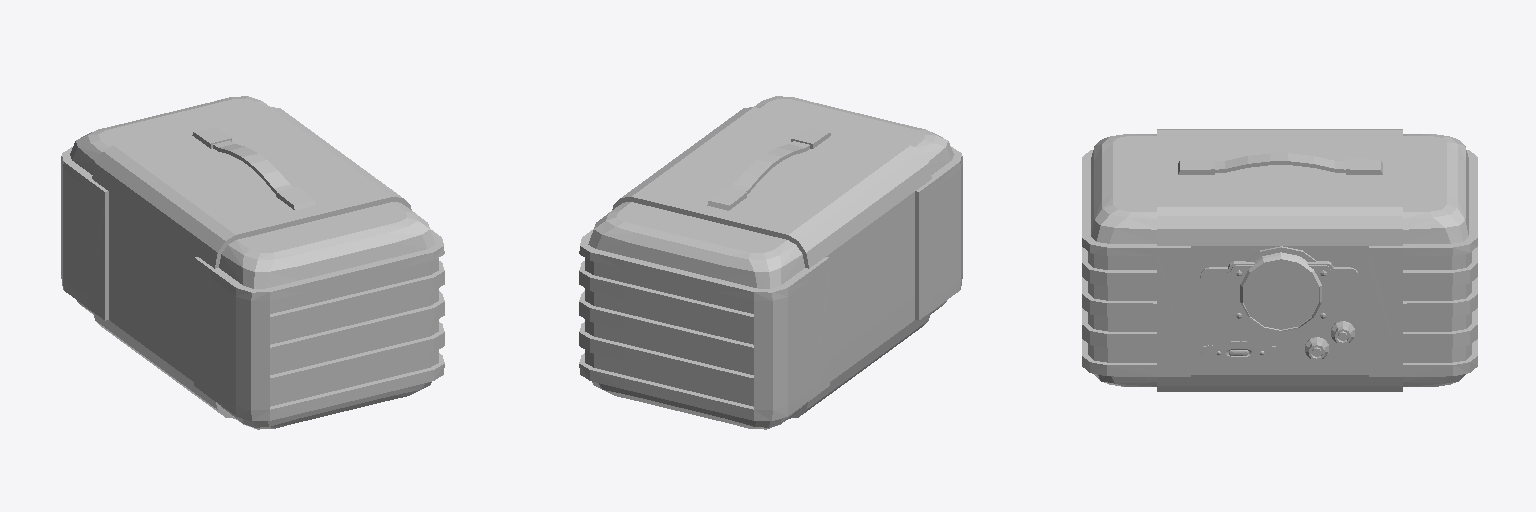
Rendered from Radio.obj.
3 views of the same model, side by side, from view 1: azimuth 30°, elevation 25°; view 2: azimuth 150°, elevation 25°; view 3: azimuth 270°, elevation 25° (orthographic).
Parts seen in each view (by area): view 1: pCube1, pCube4, pCube2; view 2: pCube1, pCube4, pCube3; view 3: pCube1, polySurface3, pCylinder15, pCube4, ornament_pCylinder6, pTorus1, pCube2, pCube3.
Boxes of the visible parts, box(x1,y1,x2,y2) form: pCube1: box(61, 96, 444, 429); pCube4: box(213, 140, 293, 193); pCube2: box(276, 187, 315, 209); pCube1: box(579, 96, 962, 429); pCube4: box(730, 141, 809, 193); pCube3: box(707, 187, 746, 210); pCube1: box(1082, 129, 1477, 391); polySurface3: box(1200, 246, 1358, 335); pCylinder15: box(1243, 259, 1318, 329); pCube4: box(1215, 153, 1345, 172); ornament_pCylinder6: box(1214, 341, 1267, 364); pTorus1: box(1240, 252, 1321, 331); pCube2: box(1178, 159, 1214, 174); pCube3: box(1346, 159, 1382, 174).
Size of the model in its own units: 8.92 by 7.86 by 14.41.